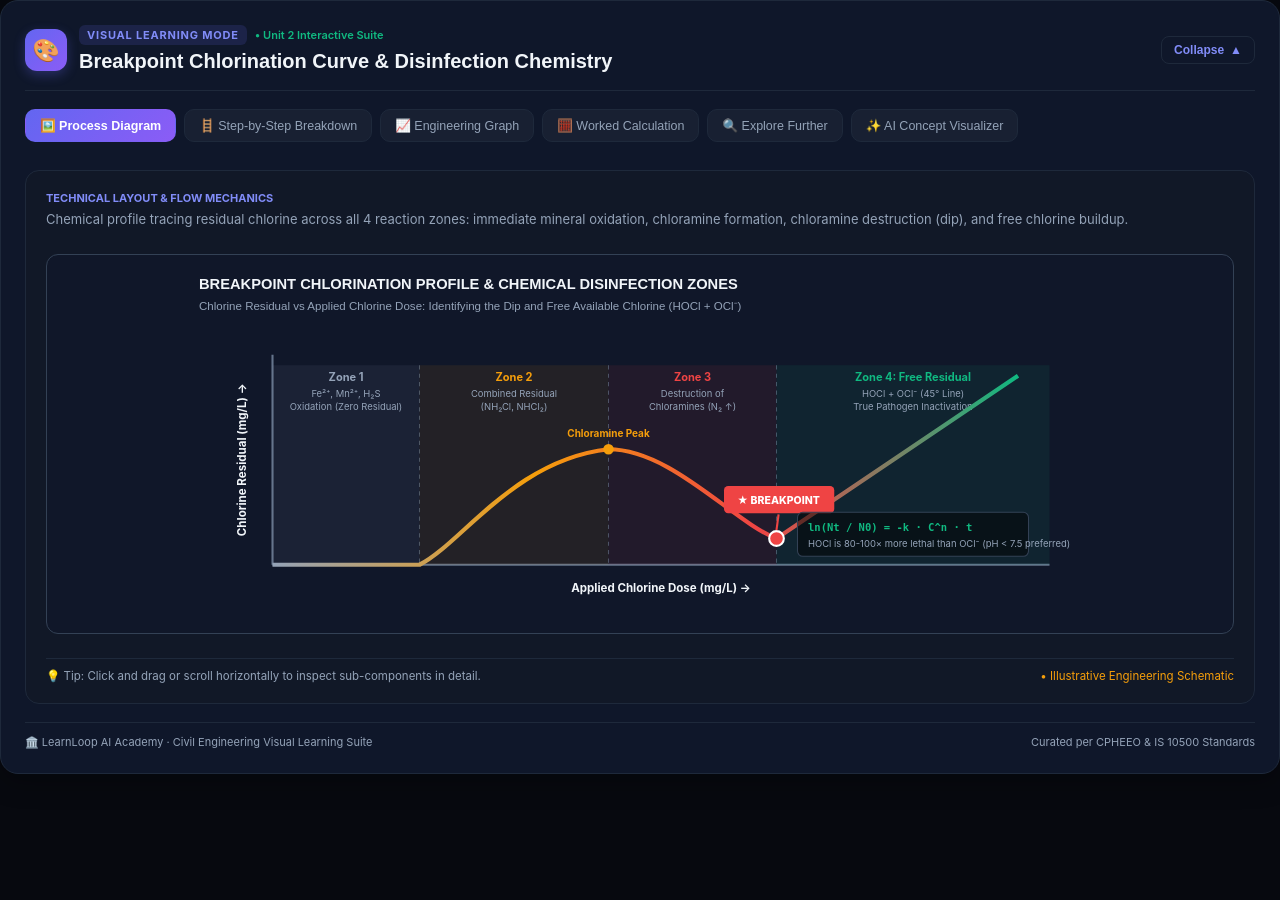
Test case: Visual Learning Mode for Unit 2 (Water Treatment Units) › Explore Further tab contains valid, safe Google and YouTube external links
Click the tab "🔍 Explore Further" at {"x": 775, "y": 126}, box [708,109,843,142]
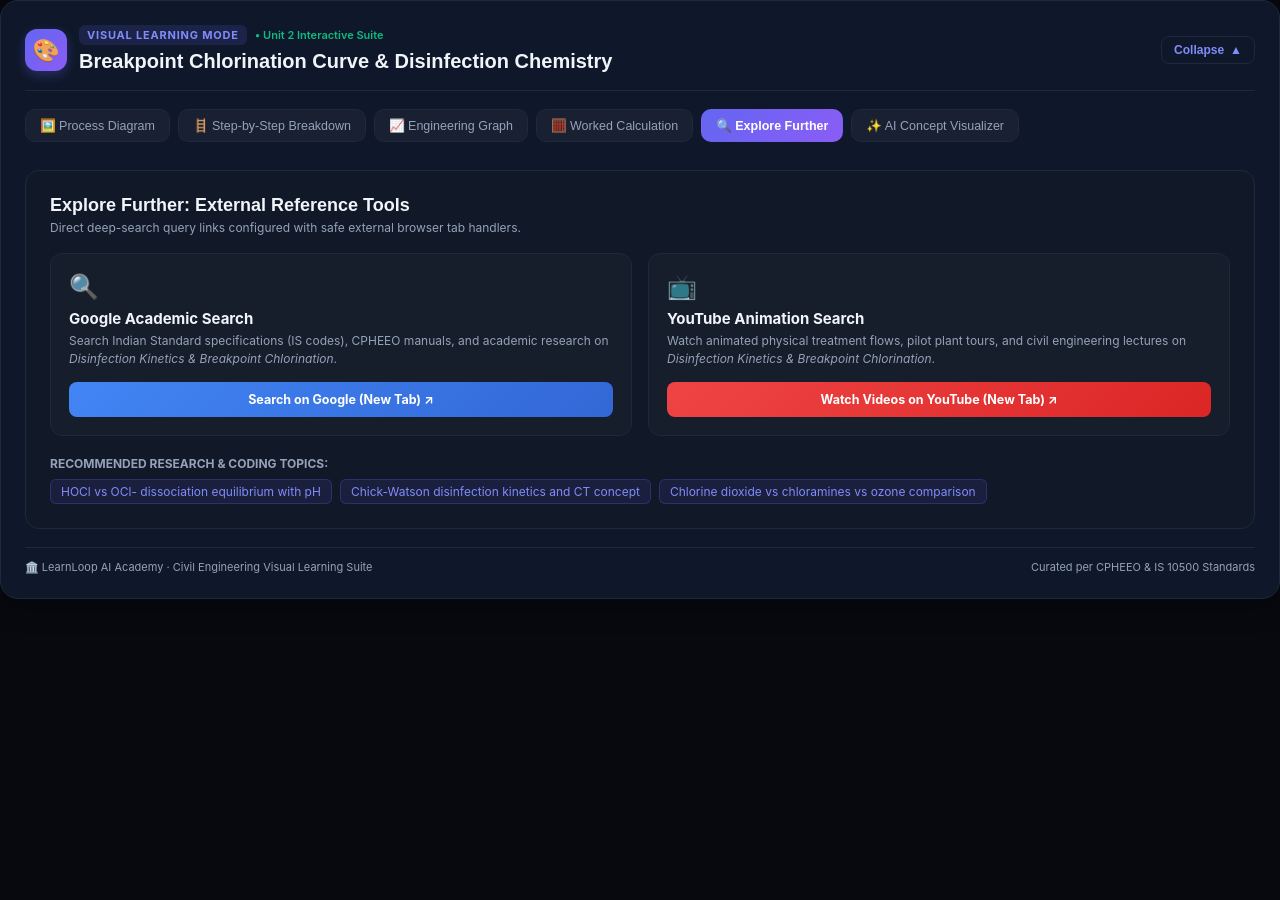
Result: the link "Search on Google (New Tab) ↗" is shown at [69,382,613,417]
Result: the link "Watch Videos on YouTube (New Tab) ↗" is shown at [667,382,1211,417]
